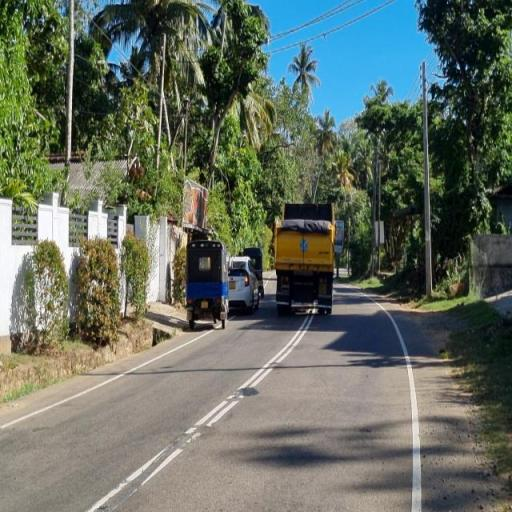double_white_line: (85, 320, 313, 494)
